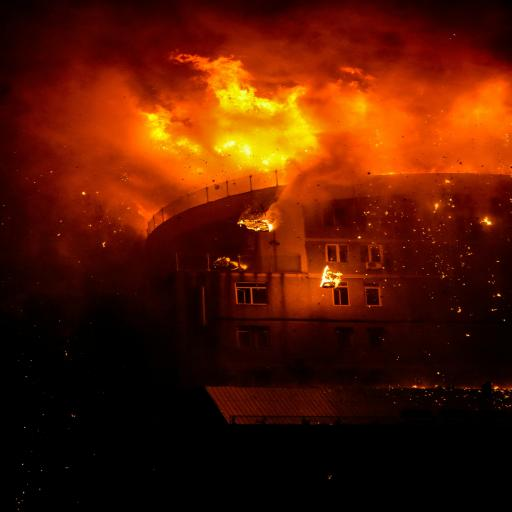buildingfire: (0, 2, 512, 426)
fire: (0, 49, 512, 230)
